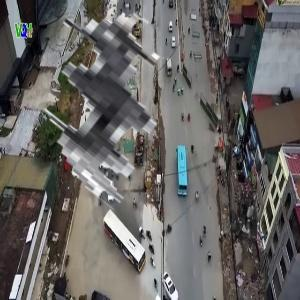drone: (14, 1, 223, 210)
